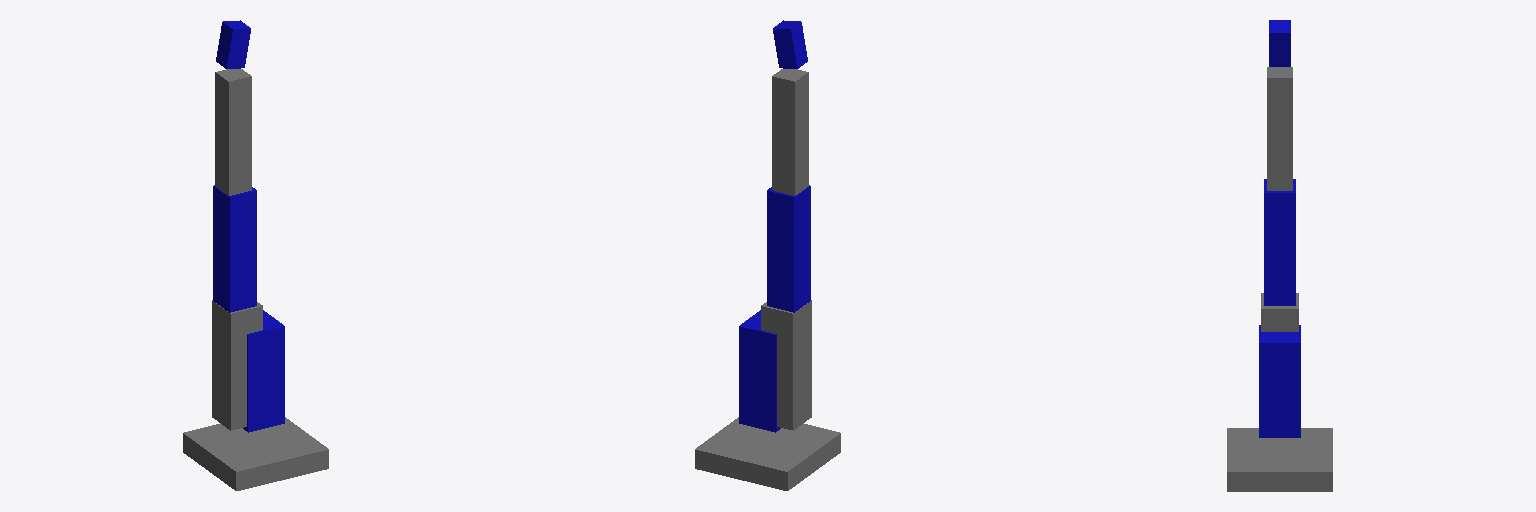
robot.urdf — my_4dof_robot_box:
<?xml version="1.0"?>
<robot name="my_4dof_robot_box">

  <material name="grey">
    <color rgba="0.5 0.5 0.5 1.0"/>
  </material>
  <material name="blue">
    <color rgba="0.1 0.1 0.8 1.0"/>
  </material>

  <link name="base_link">
    <visual>
      <geometry>
        <box size="0.10 0.10 0.02"/>
      </geometry>
      <material name="grey"/>
    </visual>
  </link>

  <link name="link_1">
    <visual>
      <geometry>
        <box size="0.04 0.04 0.10"/>
      </geometry>
      <material name="blue"/>
    </visual>
  </link>
  <joint name="joint_1" type="revolute">
    <parent link="base_link"/>
    <child link="link_1"/>
    <origin xyz="0 0 0.0814" rpy="0 0 0"/>
    <axis xyz="0 0 1"/>
    <limit lower="-1.54" upper="1.54" effort="1.08" velocity="7.48"/>
  </joint>

  <link name="link_2">
    <visual>
      <geometry>
        <box size="0.035 0.035 0.12"/>
      </geometry>
      <material name="grey"/>
    </visual>
  </link>
  <joint name="joint_2" type="revolute">
    <parent link="link_1"/>
    <child link="link_2"/>
    <origin xyz="-0.02 0 0.015" rpy="0 0 0"/>
    <axis xyz="0 -1 0"/>
    <limit lower="-1.54" upper="1.54" effort="2.63" velocity="7.48"/>
  </joint>

  <link name="link_3">
    <visual>
      <geometry>
        <box size="0.03 0.03 0.15"/>
      </geometry>
      <material name="blue"/>
    </visual>
  </link>
  <joint name="joint_3" type="revolute">
    <parent link="link_2"/>
    <child link="link_3"/>
    <origin xyz="-0.0021 0.00 0.1035" rpy="0 0 0"/>
    <axis xyz="0 1 0"/>
    <limit lower="-1.54" upper="1.54" effort="1.08" velocity="7.48"/>
  </joint>

  <link name="link_4">
    <visual>
      <geometry>
        <box size="0.025 0.025 0.13"/>
      </geometry>
      <material name="grey"/>
    </visual>
  </link>
  <joint name="joint_4" type="revolute">
    <parent link="link_3"/>
    <child link="link_4"/>
    <origin xyz="-0.002 0 0.1275" rpy="0 0 0"/>
    <axis xyz="0 -1 0"/>
    <limit lower="-1.54" upper="1.54" effort="1.08" velocity="7.48"/>
  </joint>

  <link name="tool_tip">
    <visual>
      <geometry>
        <box size="0.02 0.02 0.04"/>
      </geometry>
      <material name="blue"/>
    </visual>
  </link>
  <joint name="joint_tool" type="fixed">
    <parent link="link_4"/>
    <child link="tool_tip"/>
    <origin xyz="0 0 0.095" rpy="0 0.175 0"/>
  </joint>

</robot>

--- Facts derived from the render (not from the file) ---
3 views of the same robot in one strip: view 1: azimuth 30°, elevation 25°; view 2: azimuth 150°, elevation 25°; view 3: azimuth 270°, elevation 25° (orthographic).
Robot: my_4dof_robot_box — 6 links, 5 joints (4 revolute, 1 fixed); root link base_link; default pose: every joint at zero.
Links seen in each view (by area): view 1: base_link, link_3, link_2, link_4, link_1, tool_tip; view 2: base_link, link_3, link_2, link_4, link_1, tool_tip; view 3: base_link, link_1, link_3, link_4, link_2, tool_tip.
Link boxes in pixels (left/top/right/bottom): base_link: left=183, top=417, right=328, bottom=490; link_3: left=213, top=185, right=256, bottom=312; link_2: left=212, top=300, right=262, bottom=430; link_4: left=215, top=69, right=251, bottom=195; link_1: left=243, top=310, right=284, bottom=432; tool_tip: left=216, top=20, right=250, bottom=68; base_link: left=695, top=417, right=840, bottom=490; link_3: left=767, top=185, right=810, bottom=312; link_2: left=761, top=300, right=811, bottom=430; link_4: left=772, top=69, right=808, bottom=195; link_1: left=739, top=310, right=780, bottom=432; tool_tip: left=773, top=20, right=807, bottom=68; base_link: left=1227, top=428, right=1332, bottom=491; link_1: left=1259, top=325, right=1300, bottom=437; link_3: left=1264, top=179, right=1295, bottom=305; link_4: left=1267, top=67, right=1292, bottom=190; link_2: left=1261, top=293, right=1298, bottom=331; tool_tip: left=1269, top=20, right=1290, bottom=66.
Size in the robot's own frame: 0.1 by 0.1 by 0.4538 metres.
Geometry: primitives only (box / cylinder / sphere), no mesh files.